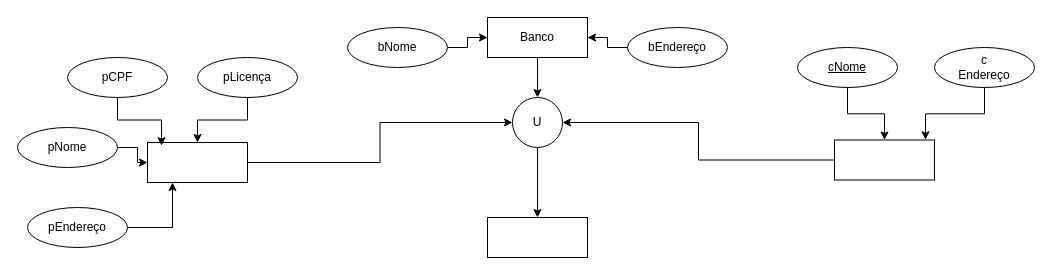
Some shapes in this 1052 by 275 pixel diagram are drawn without their labels. Here are the shapes that lost their labels. From the top down, the box of each, then its label:
(146, 142, 248, 182): Pessoa
(834, 139, 934, 180): Compania
(486, 216, 588, 258): Owner
